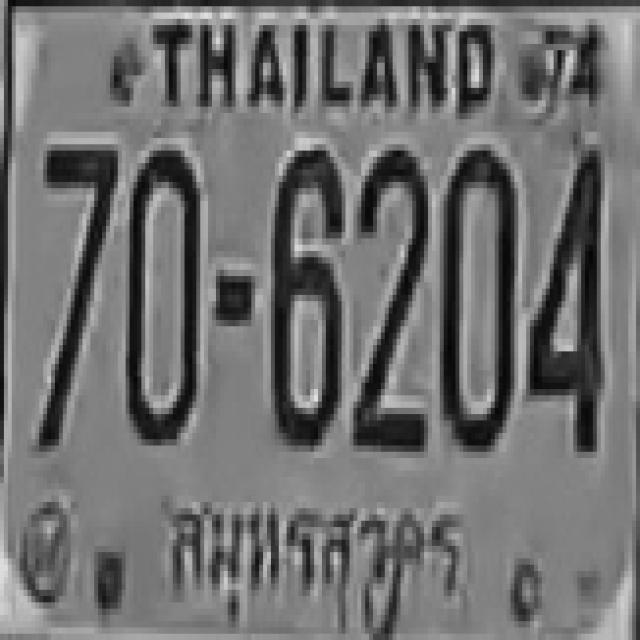0: (436, 144, 514, 446), (122, 144, 196, 440)
2: (351, 144, 426, 446)
4: (526, 144, 601, 446)
6: (269, 144, 340, 440)
7: (37, 138, 116, 446), (43, 135, 114, 354)
SamutSakhon: (159, 483, 469, 623)
